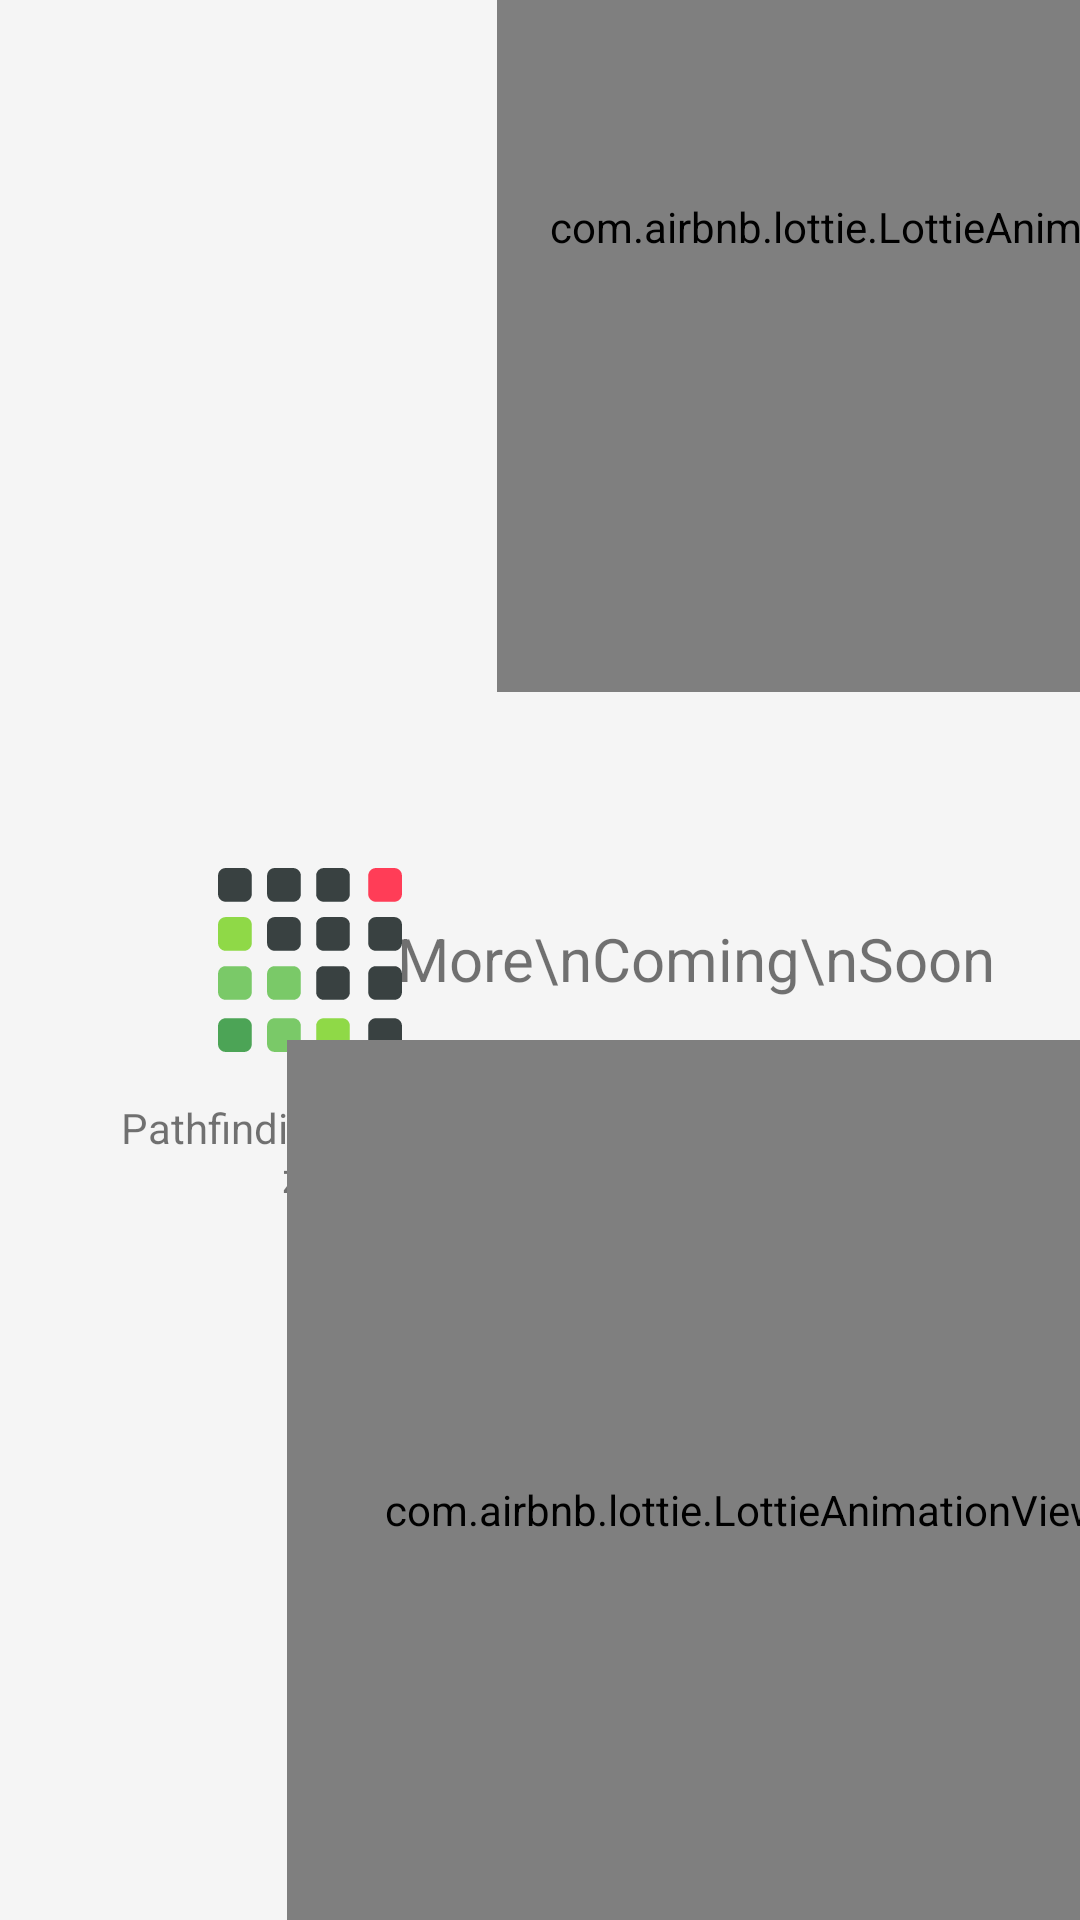

Icon bounding boxes for this 1080w x 1920h phone screenshot, format (x1, y1, x2, y2):
Pathfinding Visualizer Image: (218, 868, 402, 1052)
